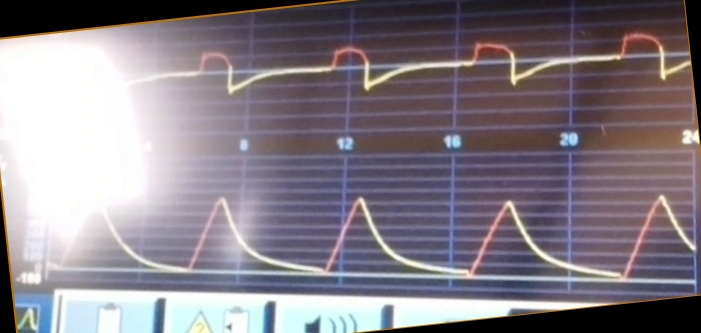Normal Flow: (137, 26, 687, 111)
Normal Volume: (51, 185, 694, 283)
